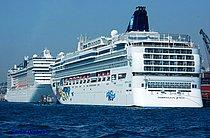Ship: (51, 5, 208, 112), (4, 47, 61, 106)
